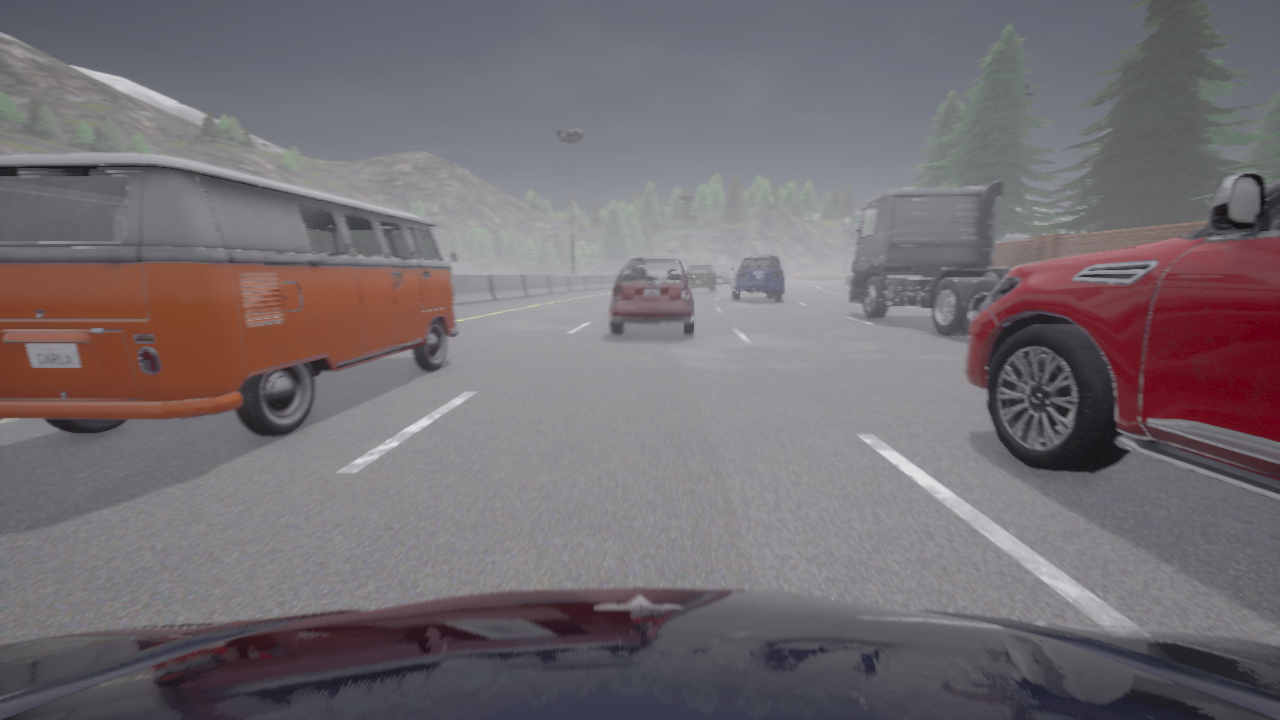cyclist: (0, 588, 1279, 719), (0, 153, 457, 435), (964, 173, 1279, 501), (850, 180, 1014, 336), (610, 258, 696, 334), (730, 255, 783, 300), (687, 262, 718, 292), (717, 270, 732, 286)
